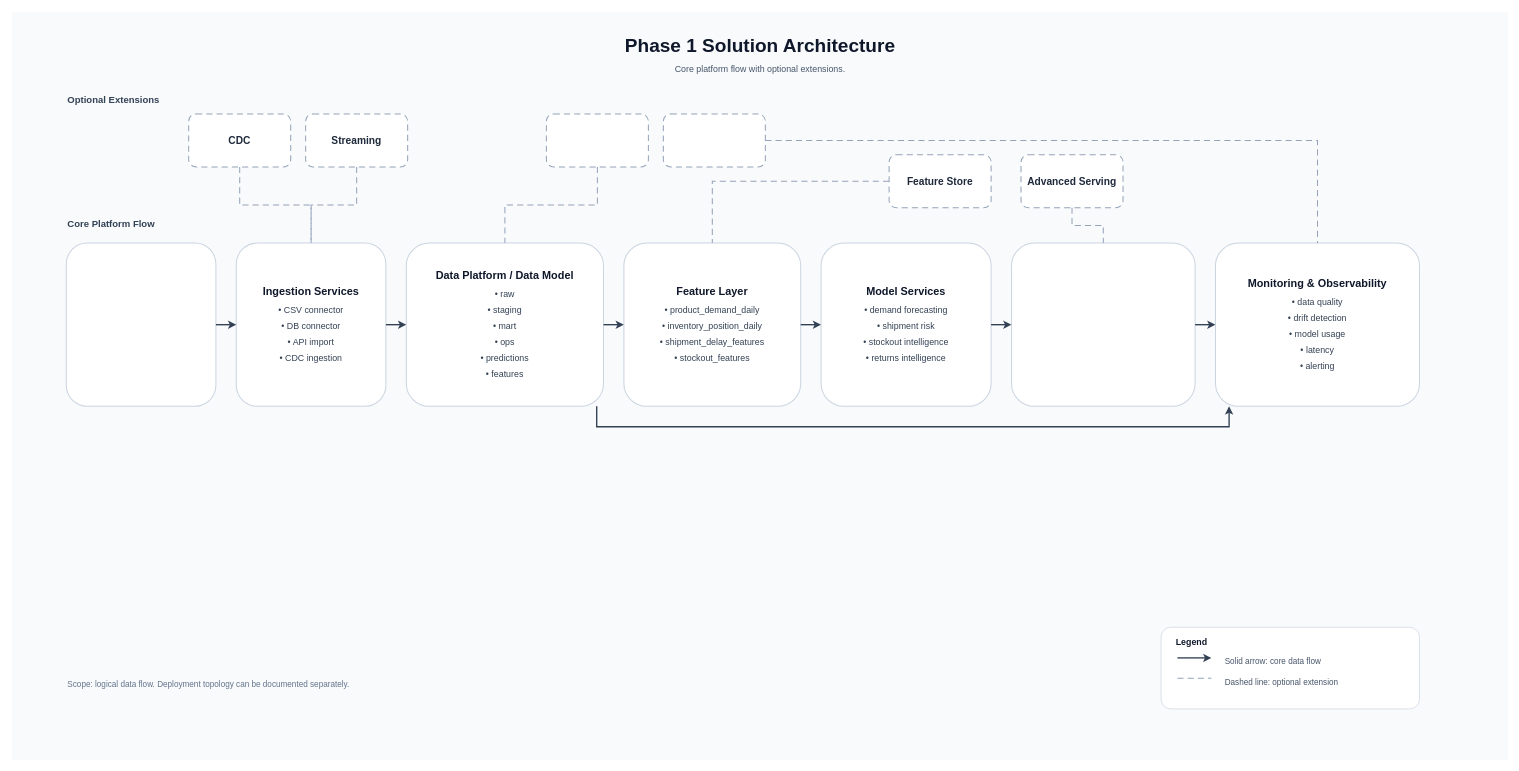
The diagram is 1519 pixels wide and 771 high, and some of its shapes have lost their labels. Here are the shapes that lost their labels. From the top down, the centre of each, then its label:
the point at 597,140: Lakehouse
the point at 714,140: Metadata
the point at 140,324: Source Systems • CSV files • Operational databases • Shopify • CDC events
the point at 1103,324: Serving & Consumption • FastAPI • dashboards • exports • setup wizard
